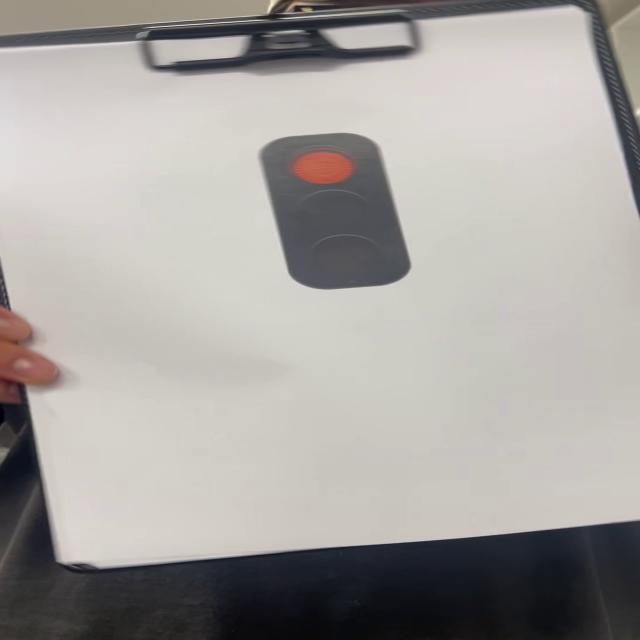red: (257, 134, 417, 289)
